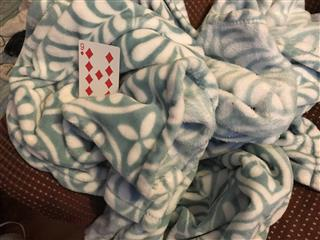NineOfDiamonds: (77, 39, 120, 97)
